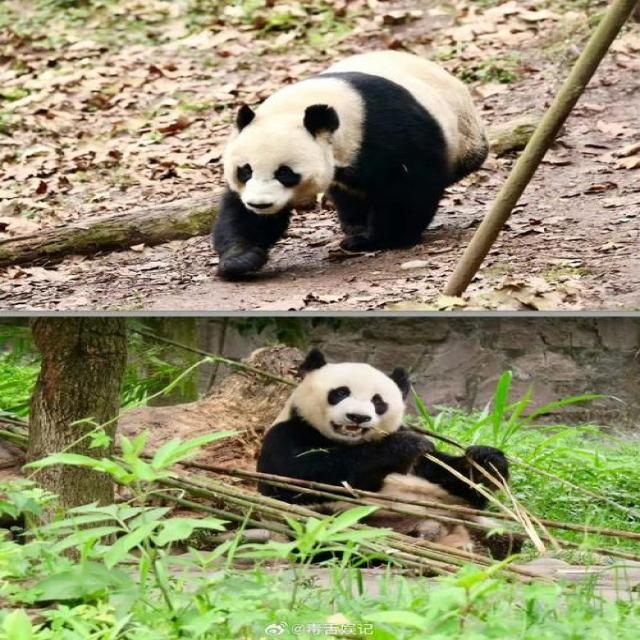panda: (156, 36, 579, 278), (173, 340, 550, 557)
